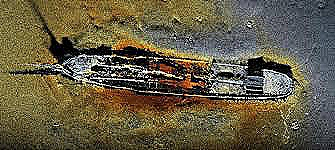ship: (11, 53, 295, 103)
